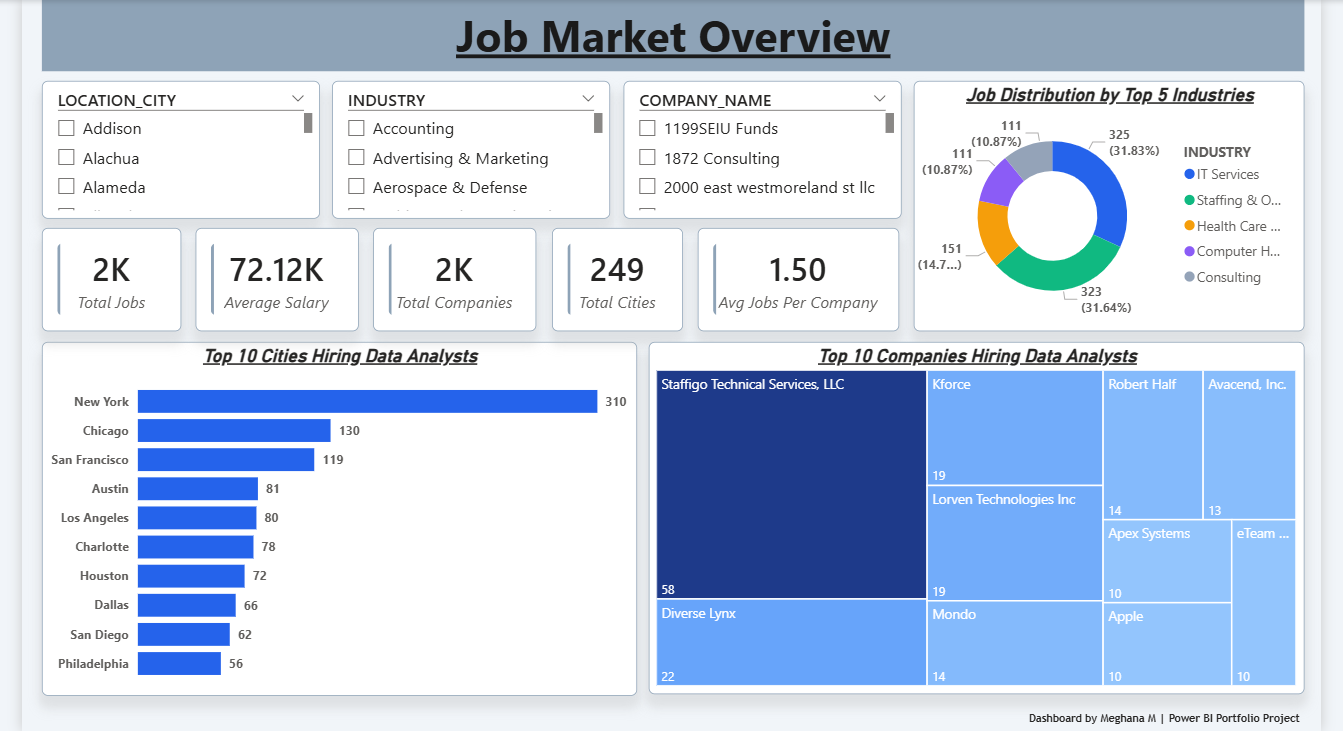

The dashboard page shown, as its layout file describes it:
{"tool":"powerbi","page":{"name":"Job Market Overview","canvas":[1280,720],"ordinal":0},"visuals":[{"type":"clusteredBarChart","title":"Top 10 Cities Hiring Data Analysts","fields":{"Category":["DATA_ANALYST_JOBS.LOCATION_CITY"],"Y":["Measures Table1.Total Jobs"]},"box":[19.6,336.8,586.1,348.5],"z":0},{"type":"textbox","box":[19.6,0,1244,70.5],"z":1000},{"type":"slicer","fields":{"Values":["DATA_ANALYST_JOBS.LOCATION_CITY"]},"box":[19.6,79.6,274.1,135.8],"z":2000},{"type":"slicer","fields":{"Values":["DATA_ANALYST_JOBS.INDUSTRY"]},"box":[305.9,79.6,274.1,135.8],"z":3000},{"type":"slicer","fields":{"Values":["DATA_ANALYST_JOBS.COMPANY_NAME_CLEAN"]},"box":[592.2,79.6,274.1,135.8],"z":4000},{"type":"cardVisual","fields":{"Data":["Measures Table1.Total Jobs"]},"box":[19.6,224.5,137.1,101.8],"z":5000},{"type":"cardVisual","fields":{"Data":["Measures Table1.Average Salary"]},"box":[171.3,224.5,160.6,101.8],"z":6000},{"type":"cardVisual","fields":{"Data":["Measures Table1.Total Companies"]},"box":[346.4,224.5,160.6,101.8],"z":7000},{"type":"cardVisual","fields":{"Data":["Measures Table1.Total Cities"]},"box":[521.6,224.5,129.2,101.8],"z":8000},{"type":"cardVisual","fields":{"Data":["Measures Table1.Avg Jobs Per Company"]},"box":[665.4,224.5,198.4,101.8],"z":9000},{"type":"donutChart","title":"Job Distribution by Top 5 Industries","fields":{"Category":["DATA_ANALYST_JOBS.INDUSTRY"],"Y":["Measures Table1.Total Jobs"]},"box":[878.5,79.6,385.1,246.7],"z":10000},{"type":"textbox","box":[878.2,691.8,385.5,29.1],"z":11000},{"type":"treemap","title":"Top 10 Companies Hiring Data Analysts","fields":{"Group":["DATA_ANALYST_JOBS.COMPANY_NAME_CLEAN"],"Values":["Measures Table1.Total Jobs"]},"box":[617.4,336.8,646.1,347.2],"z":12000}]}

Visuals, with their boxes on the page's 1280x720 design canvas (x1, y1, x2, y2). These are canvas units, not pixel positions in the 1343x731 screenshot, which may show the page scaled, cropped or inside an application window:
"Top 10 Cities Hiring Data Analysts" clusteredBarChart: select_region(20, 337, 606, 685)
textbox: select_region(20, 0, 1264, 70)
slicer - DATA_ANALYST_JOBS.LOCATION_CITY: select_region(20, 80, 294, 215)
slicer - DATA_ANALYST_JOBS.INDUSTRY: select_region(306, 80, 580, 215)
slicer - DATA_ANALYST_JOBS.COMPANY_NAME_CLEAN: select_region(592, 80, 866, 215)
cardVisual - Measures Table1.Total Jobs: select_region(20, 224, 157, 326)
cardVisual - Measures Table1.Average Salary: select_region(171, 224, 332, 326)
cardVisual - Measures Table1.Total Companies: select_region(346, 224, 507, 326)
cardVisual - Measures Table1.Total Cities: select_region(522, 224, 651, 326)
cardVisual - Measures Table1.Avg Jobs Per Company: select_region(665, 224, 864, 326)
"Job Distribution by Top 5 Industries" donutChart: select_region(878, 80, 1264, 326)
textbox: select_region(878, 692, 1264, 721)
"Top 10 Companies Hiring Data Analysts" treemap: select_region(617, 337, 1264, 684)
